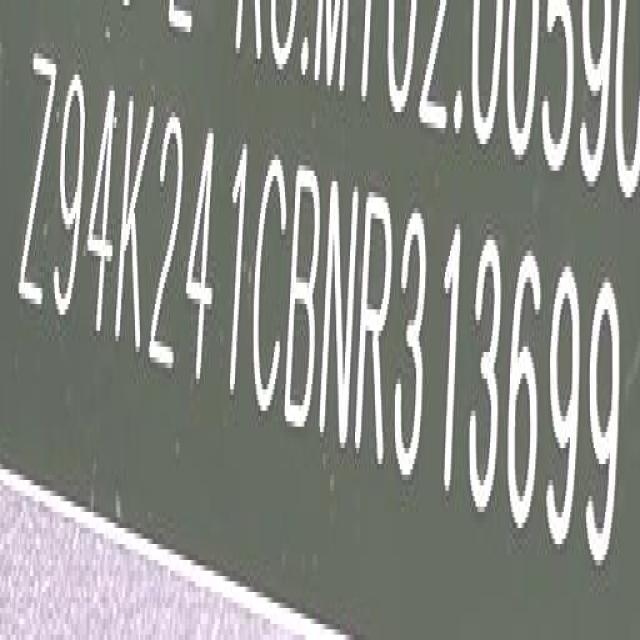1: (224, 142, 249, 402), (440, 215, 461, 497)
2: (151, 107, 185, 380)
3: (396, 210, 431, 487), (471, 233, 504, 518)
4: (188, 120, 222, 390), (88, 80, 119, 343)
6: (507, 256, 543, 540)
9: (548, 270, 582, 553), (589, 285, 623, 567), (50, 64, 86, 327)
B: (289, 163, 325, 439)
C: (253, 155, 288, 421)
K: (118, 90, 152, 359)
N: (322, 172, 360, 451)
R: (361, 186, 396, 471)
Z: (18, 51, 56, 314)
